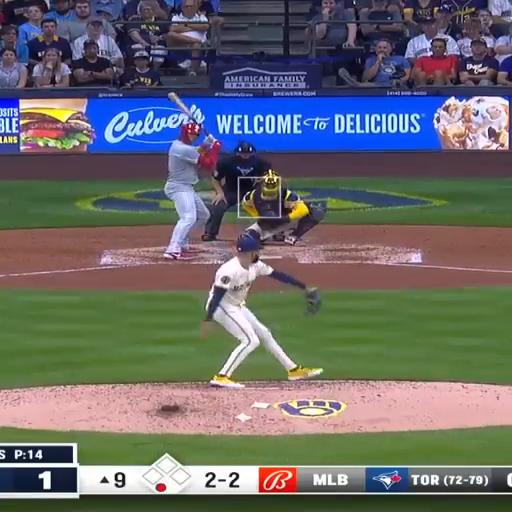bat: (168, 92, 208, 135)
